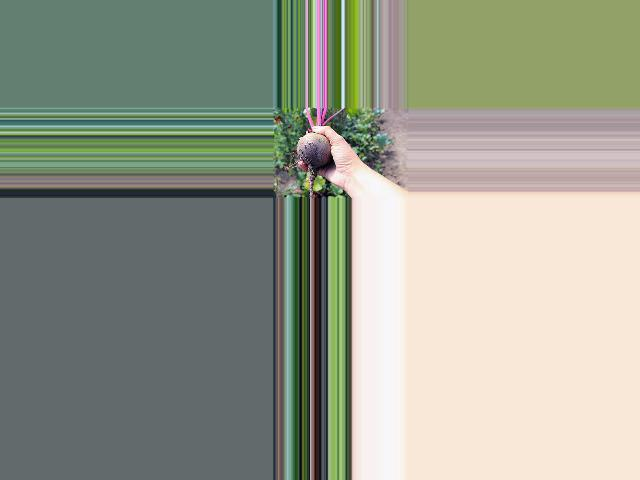beet: (282, 107, 345, 198)
